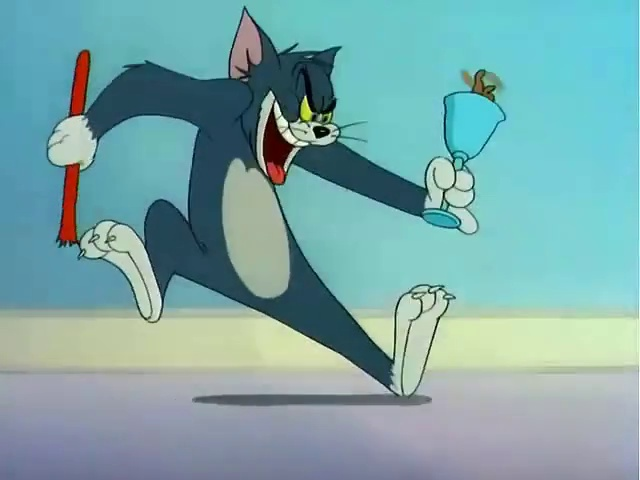tom: (74, 7, 438, 424)
